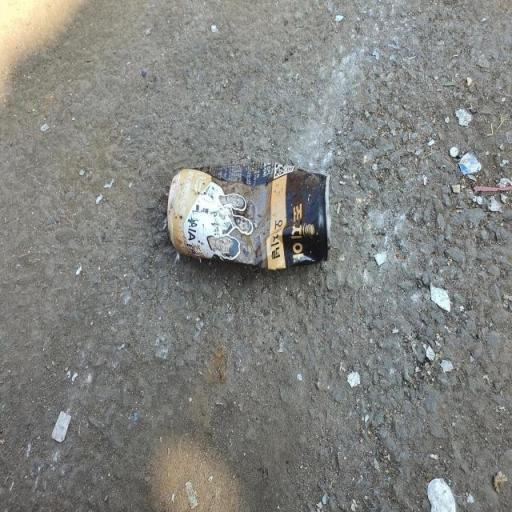metal: (157, 136, 346, 300)
